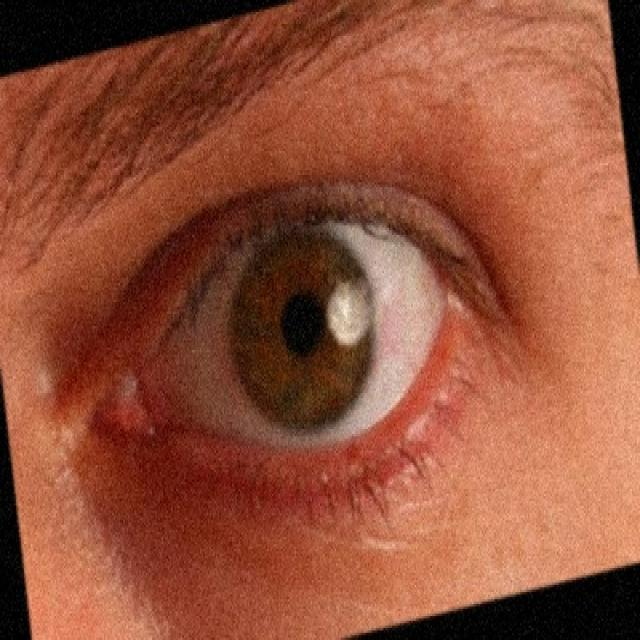Healthy-Eye: (86, 178, 484, 527)
